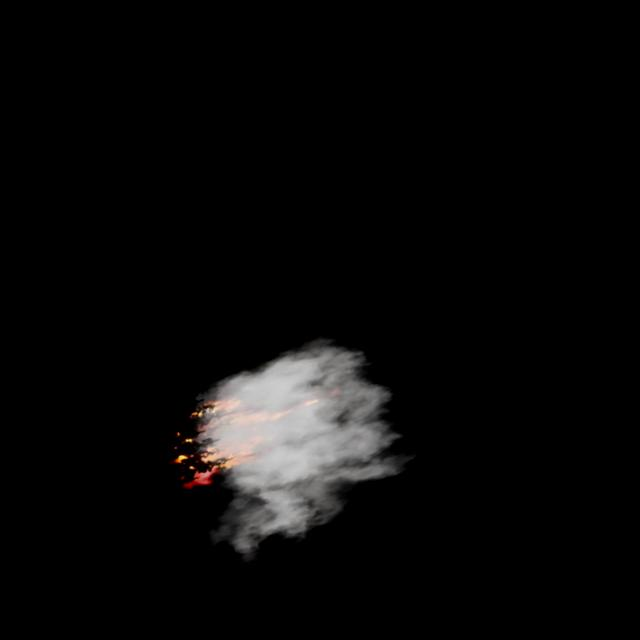fire: (156, 380, 292, 490)
smoke: (156, 319, 433, 569)
